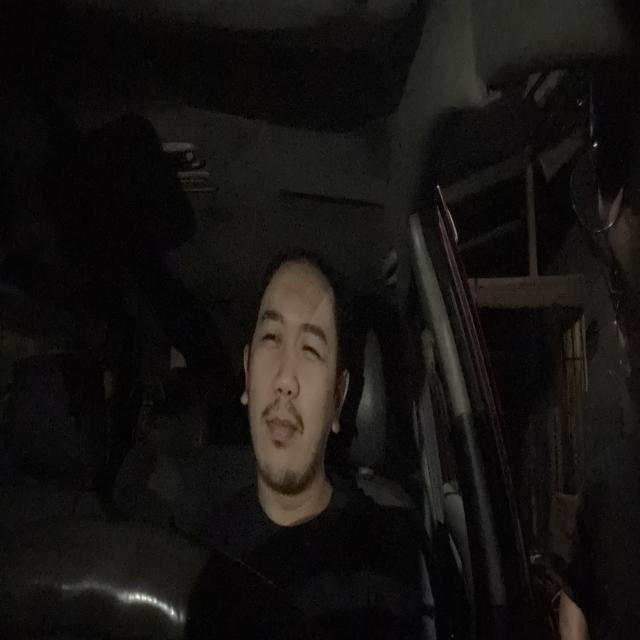open: (296, 315, 330, 376), (257, 301, 289, 358)
